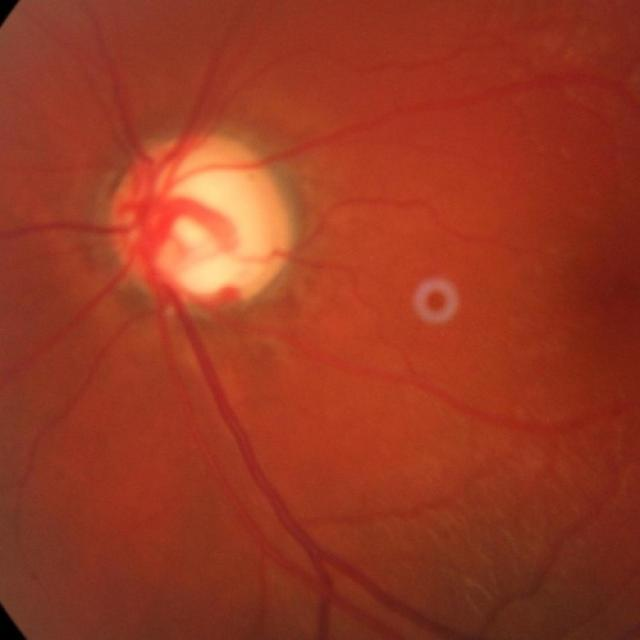OC: (148, 164, 273, 290)
OD: (113, 135, 293, 307)
